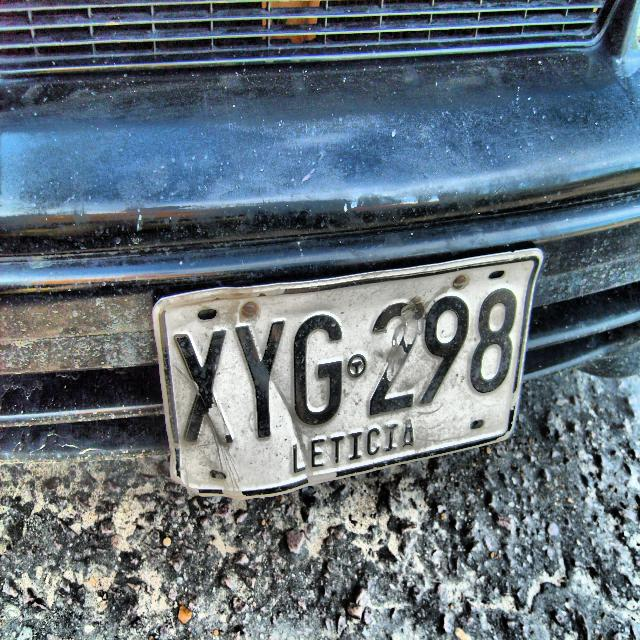plate: (152, 249, 544, 501)
